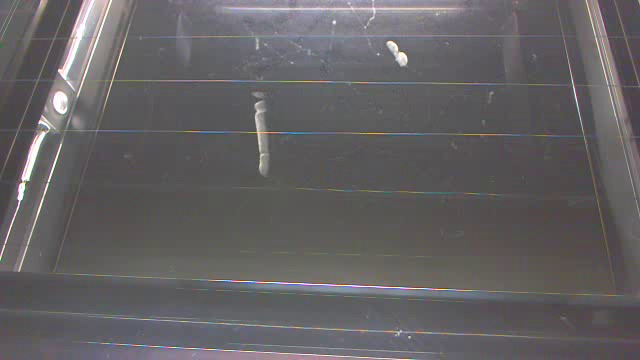alpha: (378, 38, 413, 71)
